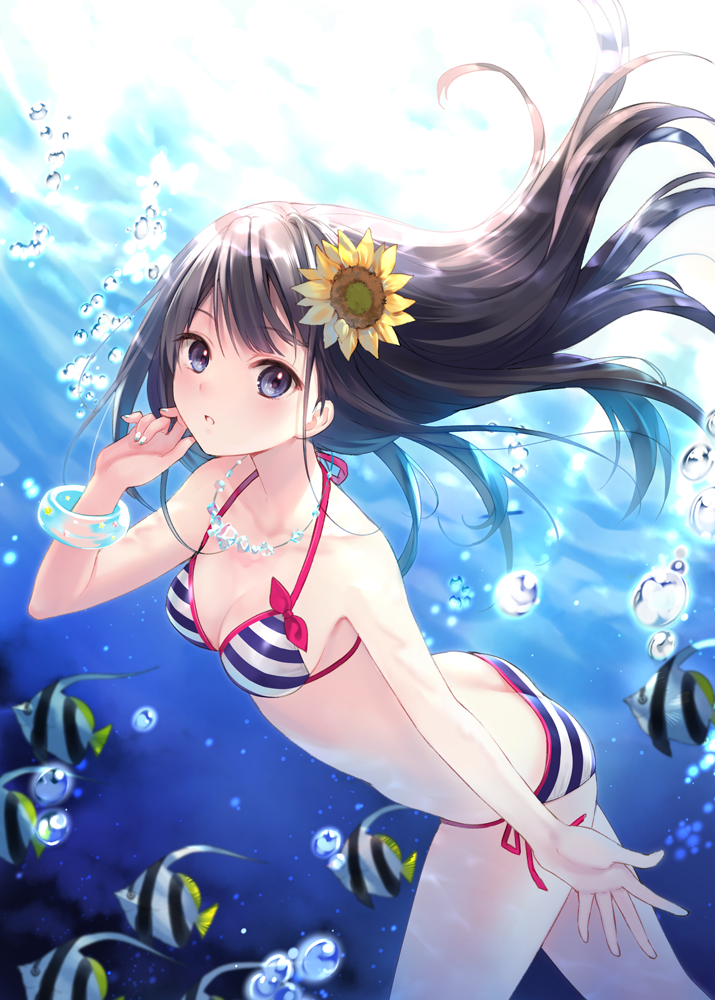纸片人正脸: (136, 190, 394, 461)
